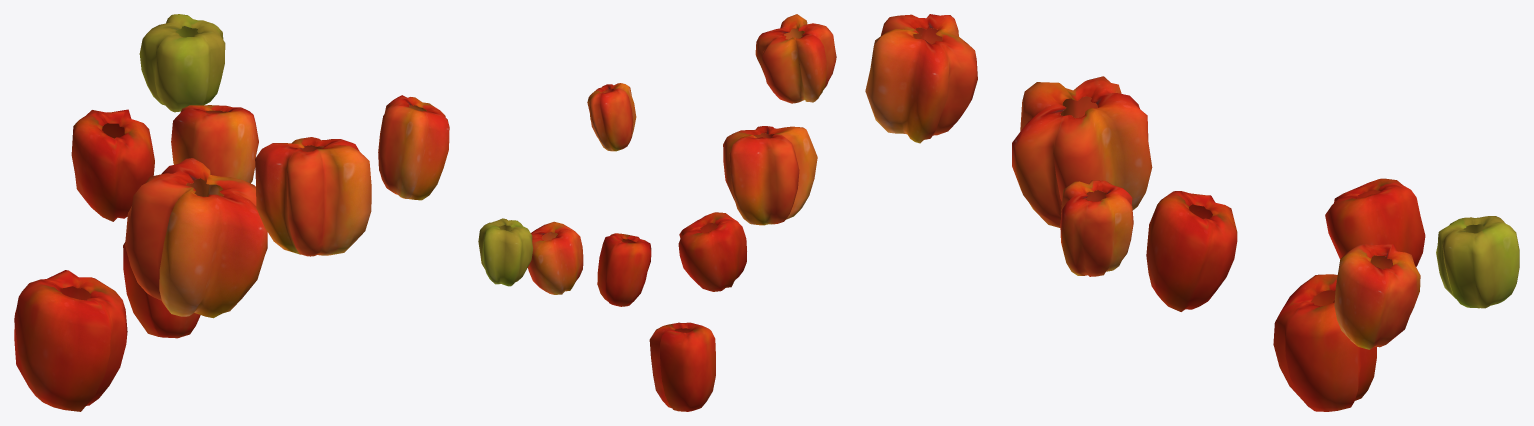
Rendered from VG07_7_fruitonly.dae.
3 renders of one model, left to right at view 1: azimuth 30°, elevation 25°; view 2: azimuth 150°, elevation 25°; view 3: azimuth 270°, elevation 25°, orthographic. The views are drawn at different scales.
Parts seen in each view (by area): view 1: VG07_019; view 2: VG07_019; view 3: VG07_019.
Boxes of the visible parts, x1=… form: VG07_019: x1=14, y1=14, x2=449, y2=411; VG07_019: x1=478, y1=14, x2=836, y2=411; VG07_019: x1=865, y1=14, x2=1519, y2=411.
Bounding box in the file's own units: 0.2157 × 0.3986 × 0.271.
3 materials, 3 textured.
